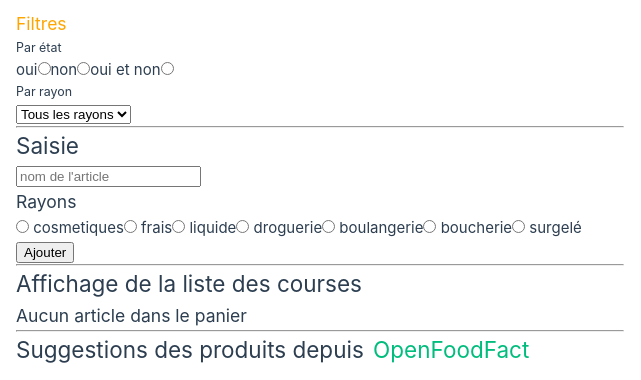
Scenario: Testing add article › Should add article
Type "Coca" into the field with placeholder "nom de l'article".
click(109, 177); type("Coca")  # box [16, 166, 201, 187]
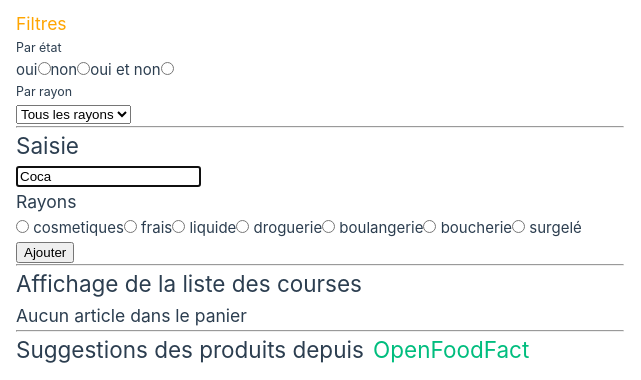
Check the radio button with id "liquide".
click(179, 227)  # box [172, 220, 185, 233]
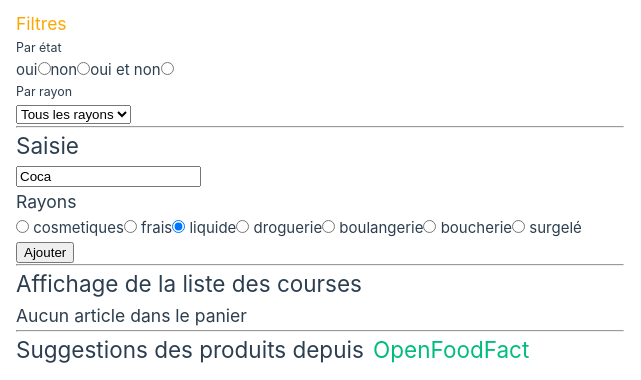
Click the button "Ajouter".
click(45, 253)  # box [16, 242, 74, 263]
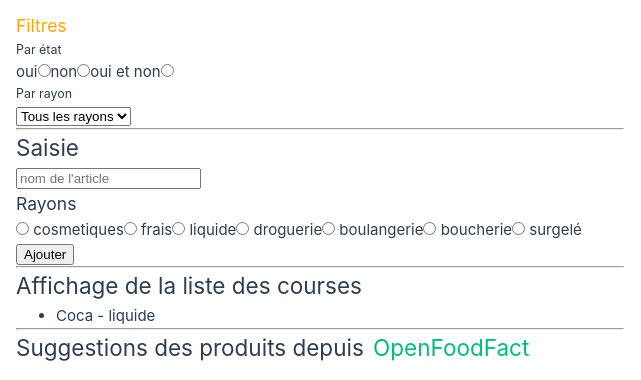
expect the list item "Coca - liquide" is shown: met, box [56, 306, 155, 325]
